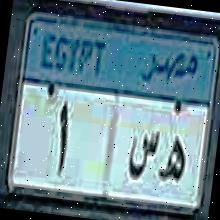1: (49, 97, 75, 176)
haa: (156, 134, 190, 194)
seen: (123, 122, 162, 186)
